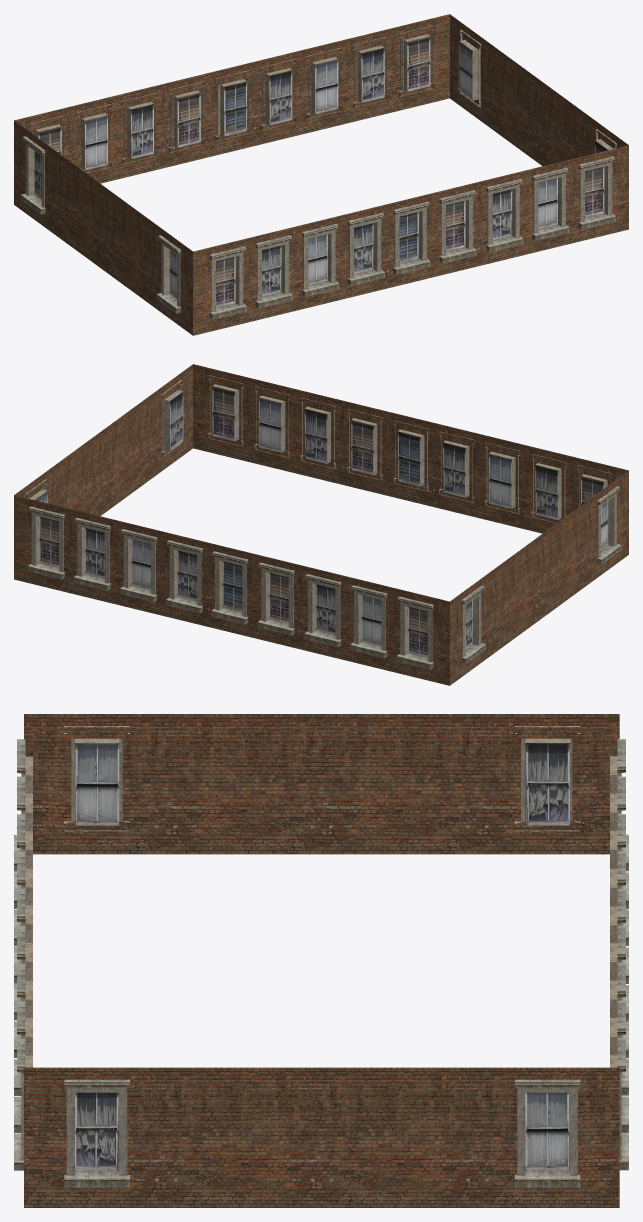
The model's file is Build5_el4.fbx.
3 renders of one model, top to bottom at view 1: azimuth 30°, elevation 25°; view 2: azimuth 150°, elevation 25°; view 3: azimuth 270°, elevation 25°, orthographic. The views are drawn at different scales.
Parts seen in each view (by area): view 1: f_2; view 2: f_2; view 3: f_2.
Part boxes in pixels (left/top/right/bottom): f_2: left=14, top=14, right=628, bottom=335; f_2: left=14, top=364, right=628, bottom=685; f_2: left=14, top=714, right=628, bottom=1207.
Size of the model in its own units: 16.57 by 3 by 11.93.
